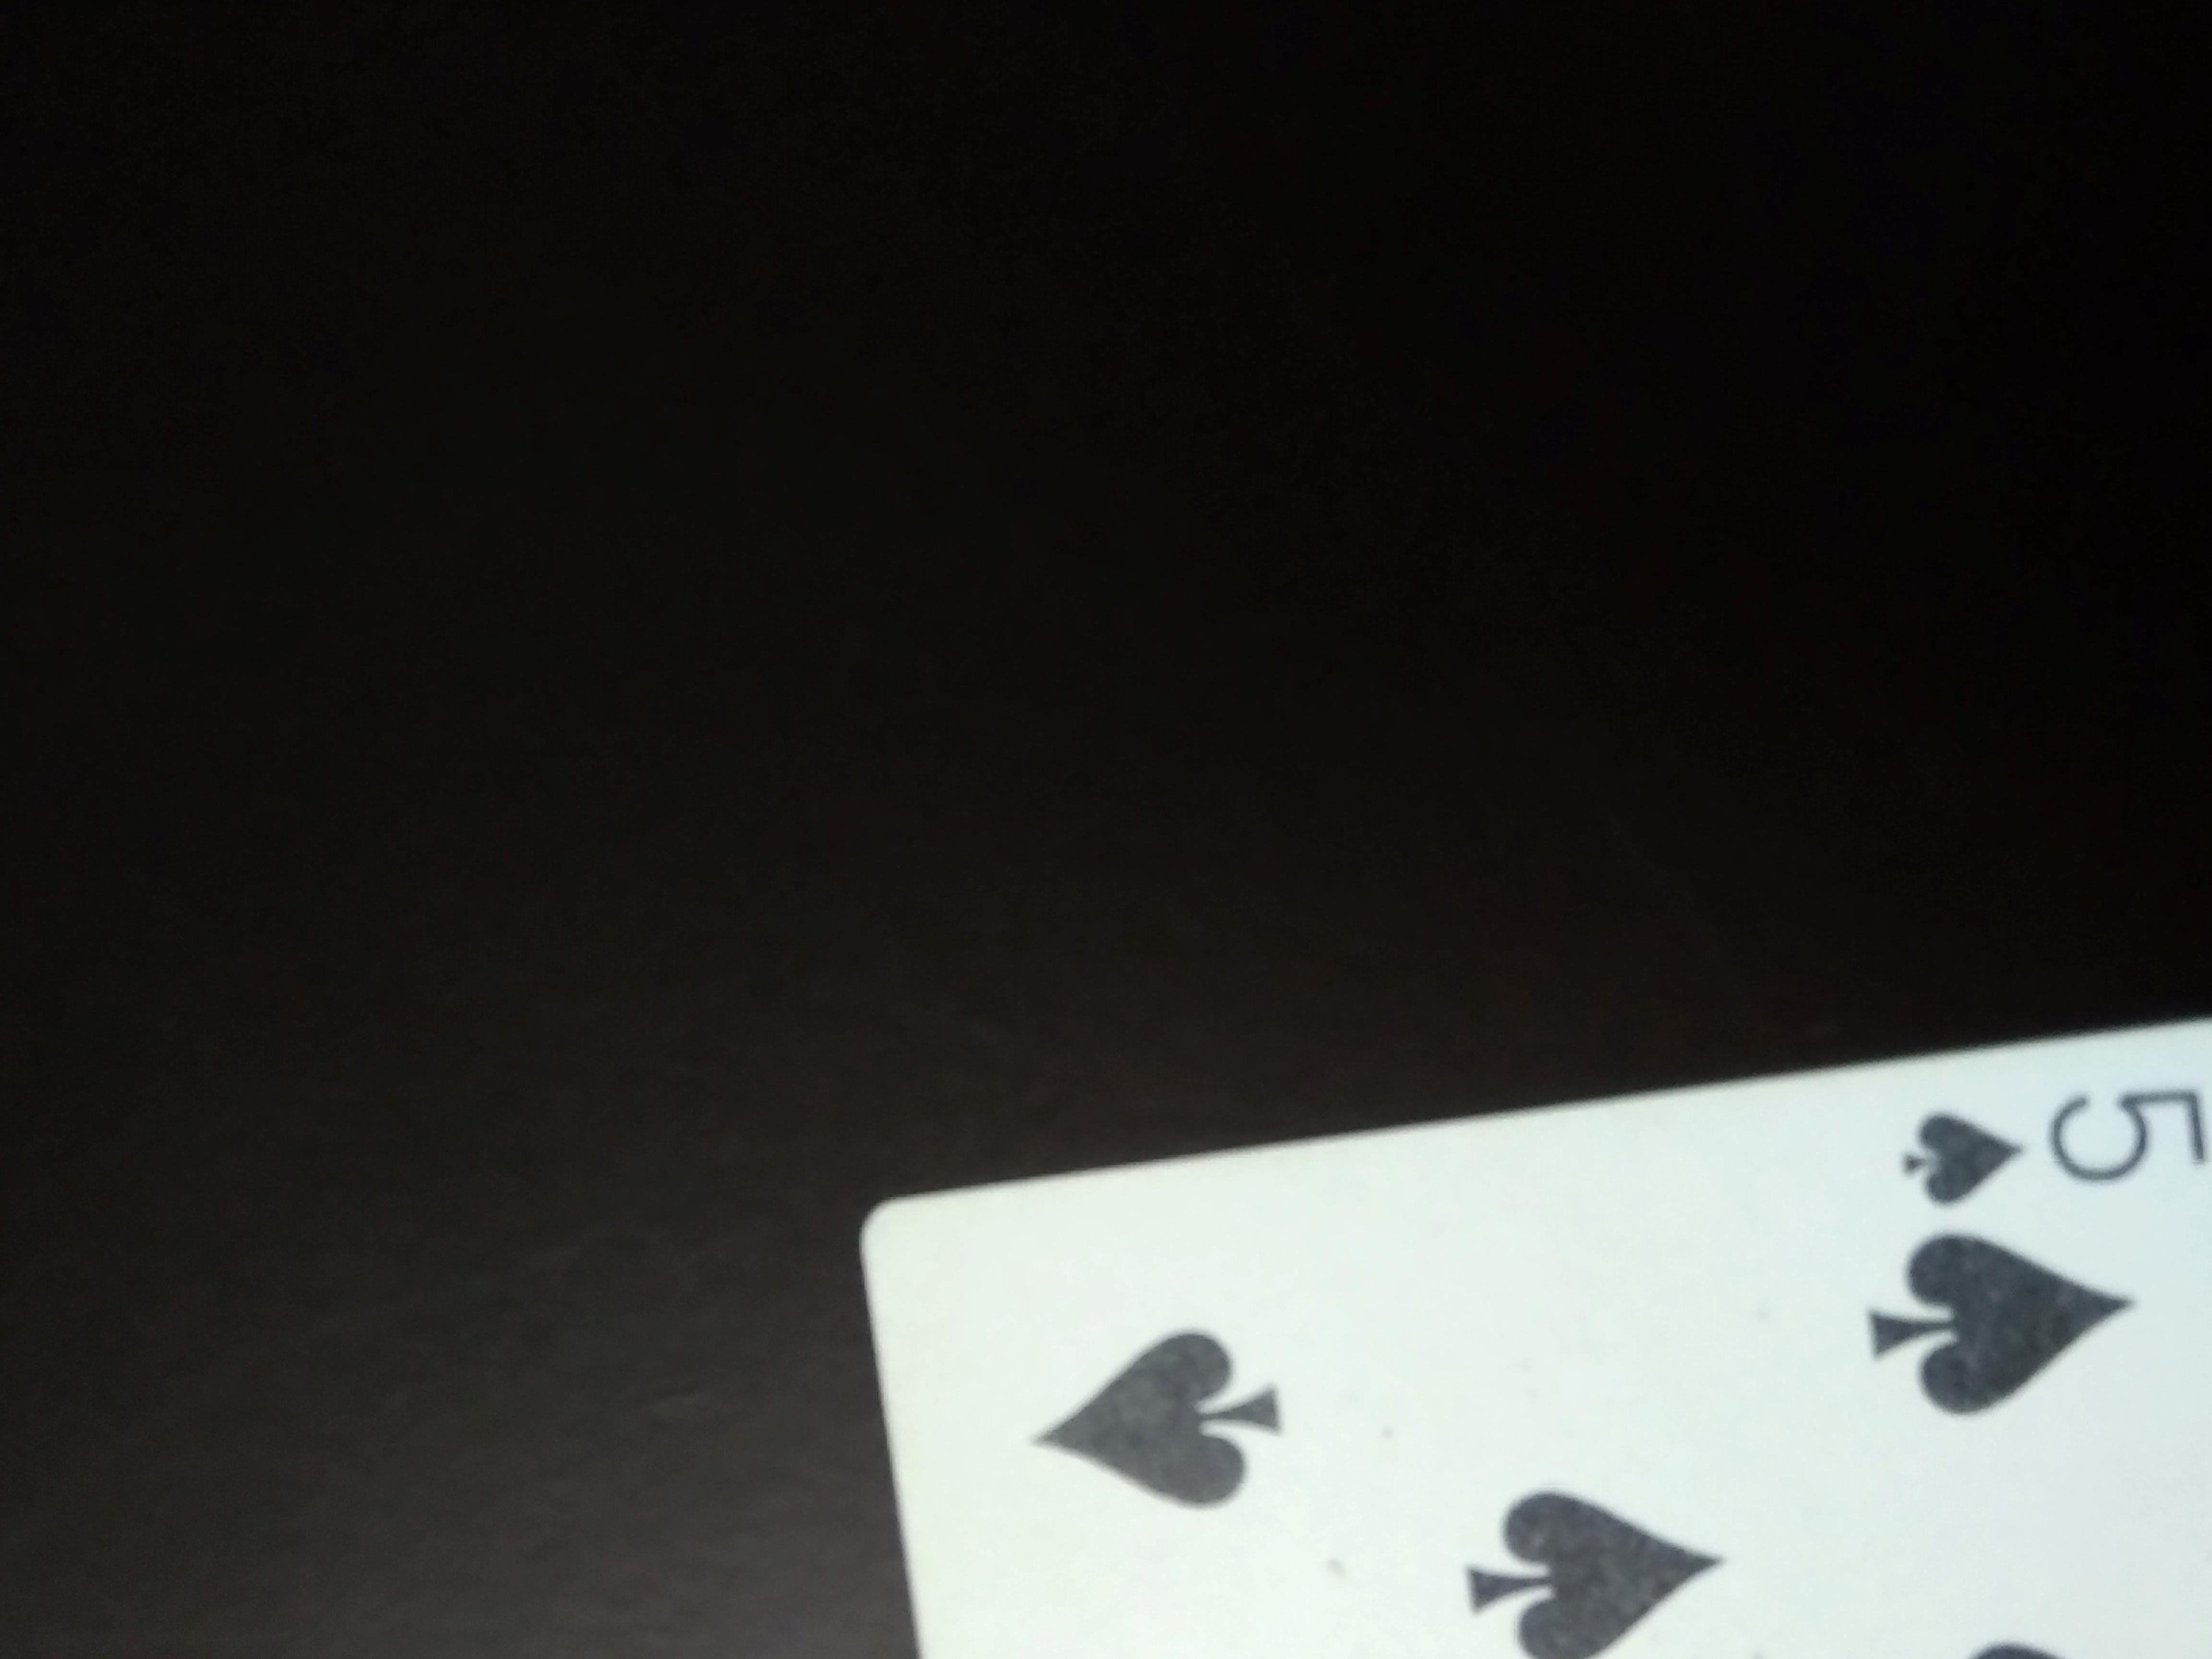5S: (1860, 1063, 2212, 1220)
